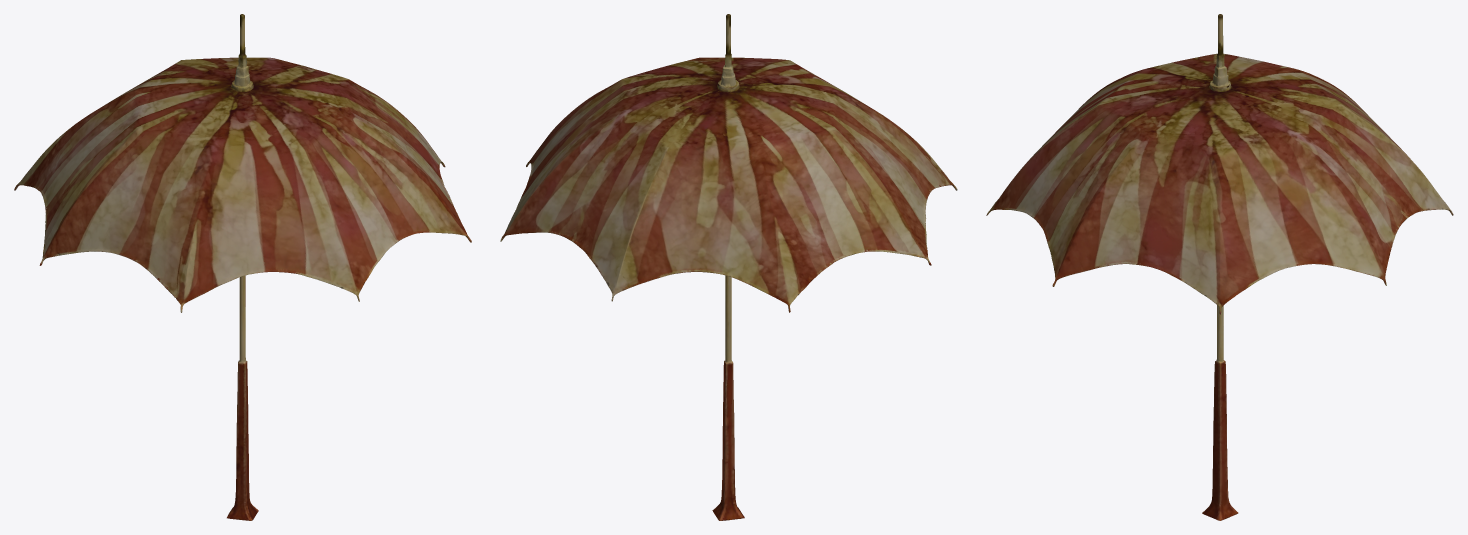
File: paraguas.fbx
3 views of the same model, side by side, from view 1: azimuth 30°, elevation 25°; view 2: azimuth 150°, elevation 25°; view 3: azimuth 270°, elevation 25° (orthographic).
Parts seen in each view (by area): view 1: tripo_node_ba924fdb; view 2: tripo_node_ba924fdb; view 3: tripo_node_ba924fdb.
Part boxes in pixels (x1,y1,x2,y2): tripo_node_ba924fdb: [14, 14, 471, 520]; tripo_node_ba924fdb: [500, 14, 957, 520]; tripo_node_ba924fdb: [986, 14, 1453, 520].
Bounding box in the file's own units: 0.8491 × 0.9999 × 0.8485.
1 material, 1 textured.
